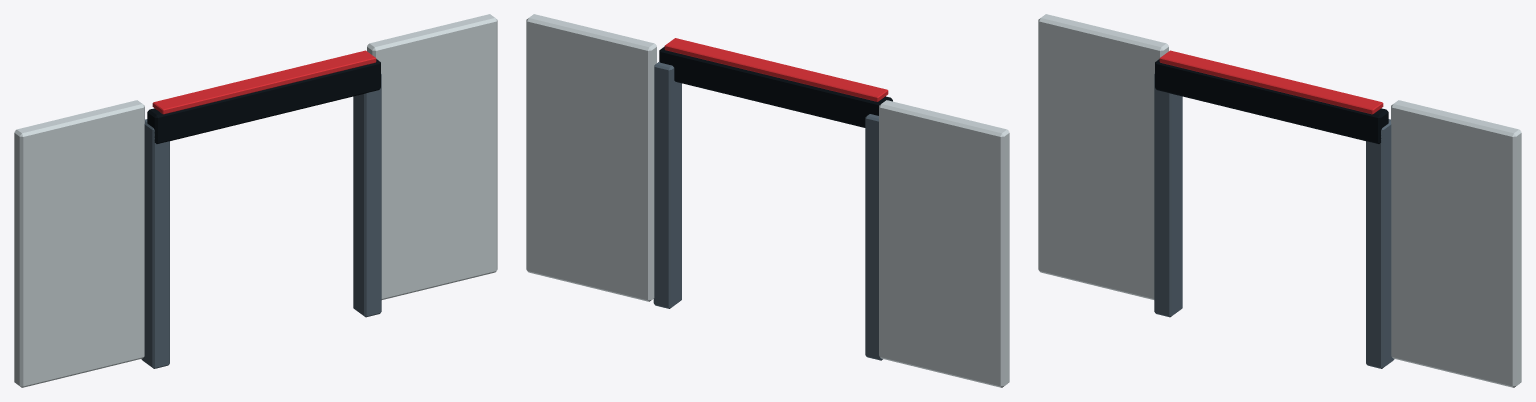
File: door_frame.obj
3 views of the same model, side by side, from view 1: azimuth 30°, elevation 25°; view 2: azimuth 150°, elevation 25°; view 3: azimuth 330°, elevation 25° (orthographic).
Parts seen in each view (by area): view 1: part_292, part_297, part_302, part_298, part_293, part_303; view 2: part_292, part_297, part_298, part_302, part_293, part_303; view 3: part_297, part_292, part_302, part_293, part_298, part_303.
Part boxes in pixels (x1,y1,x2,y2): part_292: (14, 100, 144, 387); part_297: (367, 14, 497, 299); part_302: (147, 59, 380, 143); part_298: (353, 74, 381, 317); part_293: (141, 119, 169, 368); part_303: (152, 50, 376, 114); part_292: (879, 100, 1009, 387); part_297: (526, 14, 656, 301); part_298: (653, 61, 681, 308); part_302: (659, 46, 892, 127); part_293: (865, 114, 882, 360); part_303: (664, 38, 888, 101); part_297: (1391, 100, 1521, 387); part_292: (1038, 14, 1168, 299); part_302: (1155, 59, 1388, 143); part_293: (1154, 74, 1182, 317); part_298: (1366, 119, 1394, 368); part_303: (1159, 50, 1383, 114).
Bounding box in the file's own units: 6.78 × 3.52 × 0.44.
